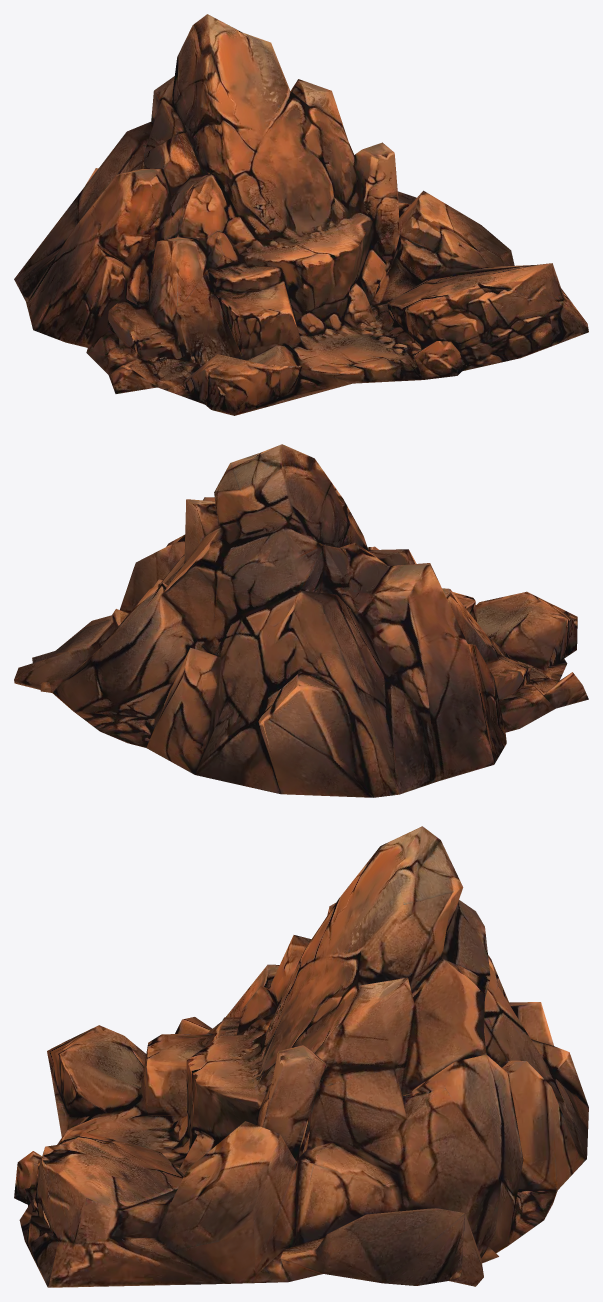
File: rockpile.glb
The picture shows the model from 3 angles, top to bottom: view 1: azimuth 30°, elevation 25°; view 2: azimuth 150°, elevation 25°; view 3: azimuth 270°, elevation 25°; orthographic projection. The views are drawn at different scales.
Parts seen in each view (by area): view 1: Mesh_0; view 2: Mesh_0; view 3: Mesh_0.
Part boxes in pixels (x1,y1,x2,y2): Mesh_0: [14, 14, 588, 415]; Mesh_0: [14, 444, 588, 797]; Mesh_0: [14, 826, 588, 1287].
Bounding box in the file's own units: 1.89 × 1.12 × 1.8.
Materials: 1 (1 with a texture image).
